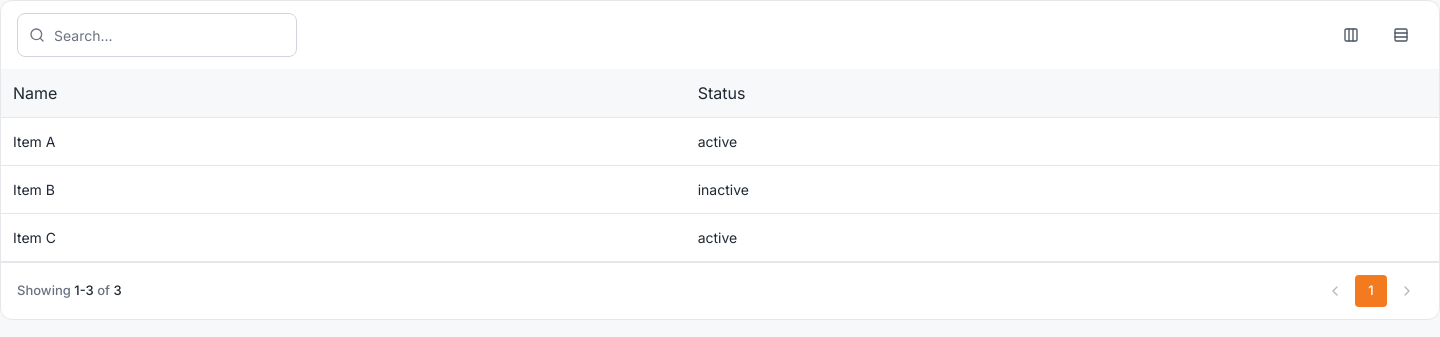
Test: DataTable › search functionality › filters rows when search text is entered (client-side)
The width and height of the screenshot is (1440, 337).
Type "Item A" into the field with placeholder "Search..." at (157, 35), box [17,13,297,57]
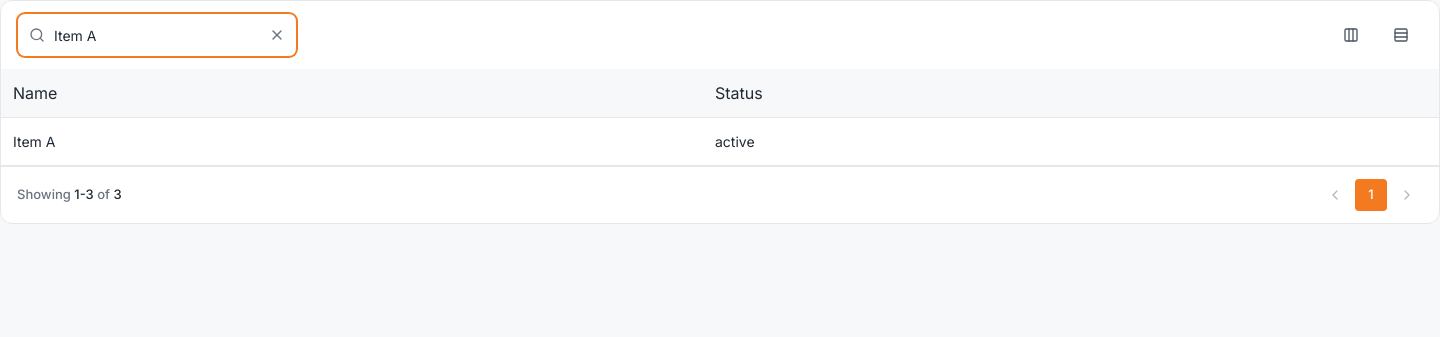
Expected: the text "Item A" is shown, [1,117,703,165]
Expected: the text "Item B" is gone
